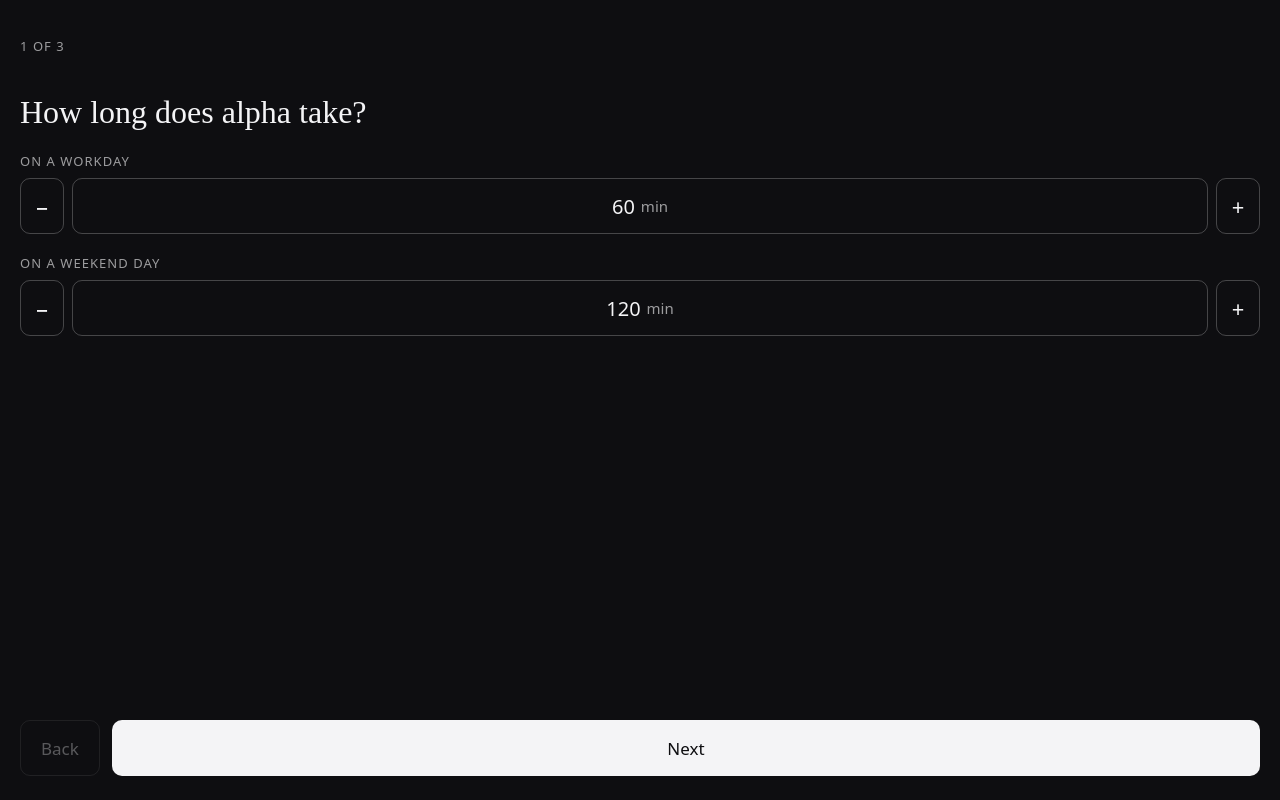
it: S1 screen renderer (§4.2) › renders screens in pack order, one at a time (AC 1)
The width and height of the screenshot is (1280, 800).
Expected: the heading reads "How long does alpha take?", x1=20 y1=94 x2=367 y2=130
Click the button "Next": {"x": 686, "y": 748} x1=112 y1=720 x2=1260 y2=776
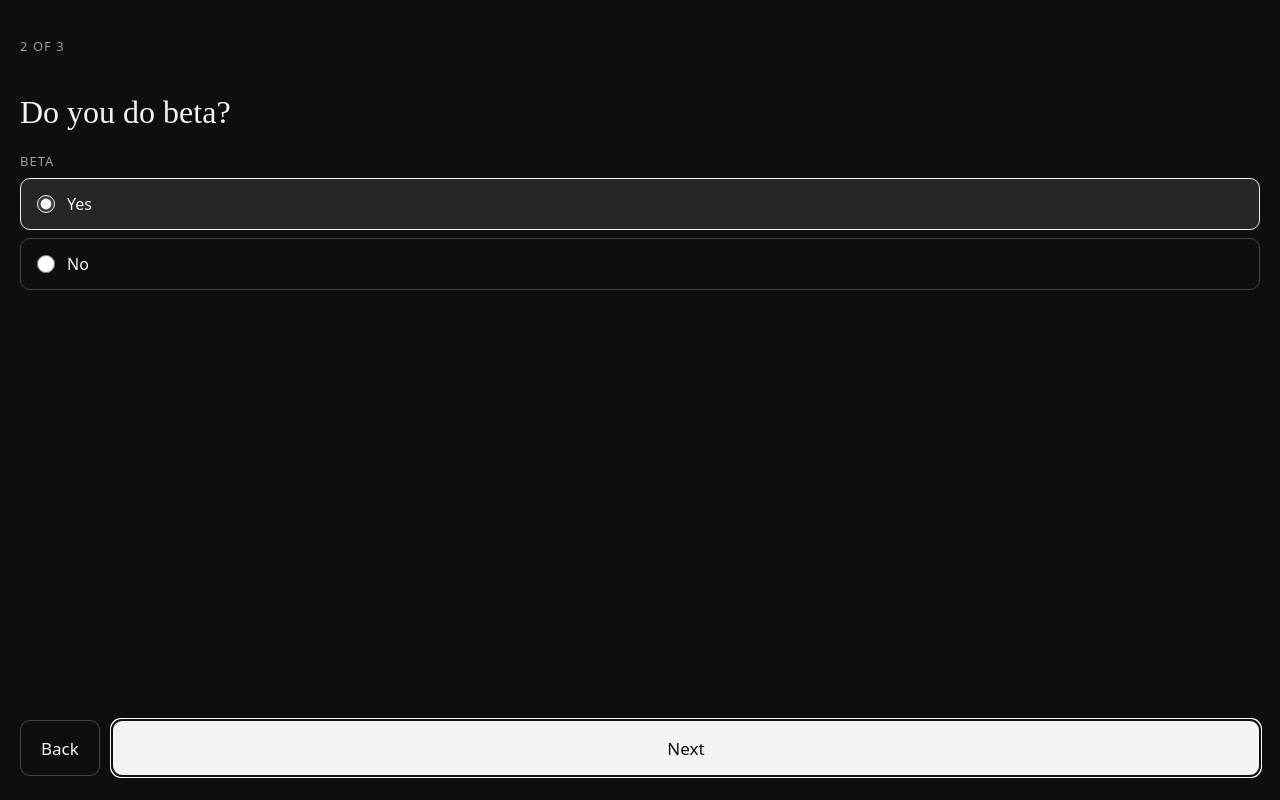
Expected: the heading reads "Do you do beta?", x1=20 y1=94 x2=231 y2=130
Click the button "Next": {"x": 686, "y": 748} x1=112 y1=720 x2=1260 y2=776
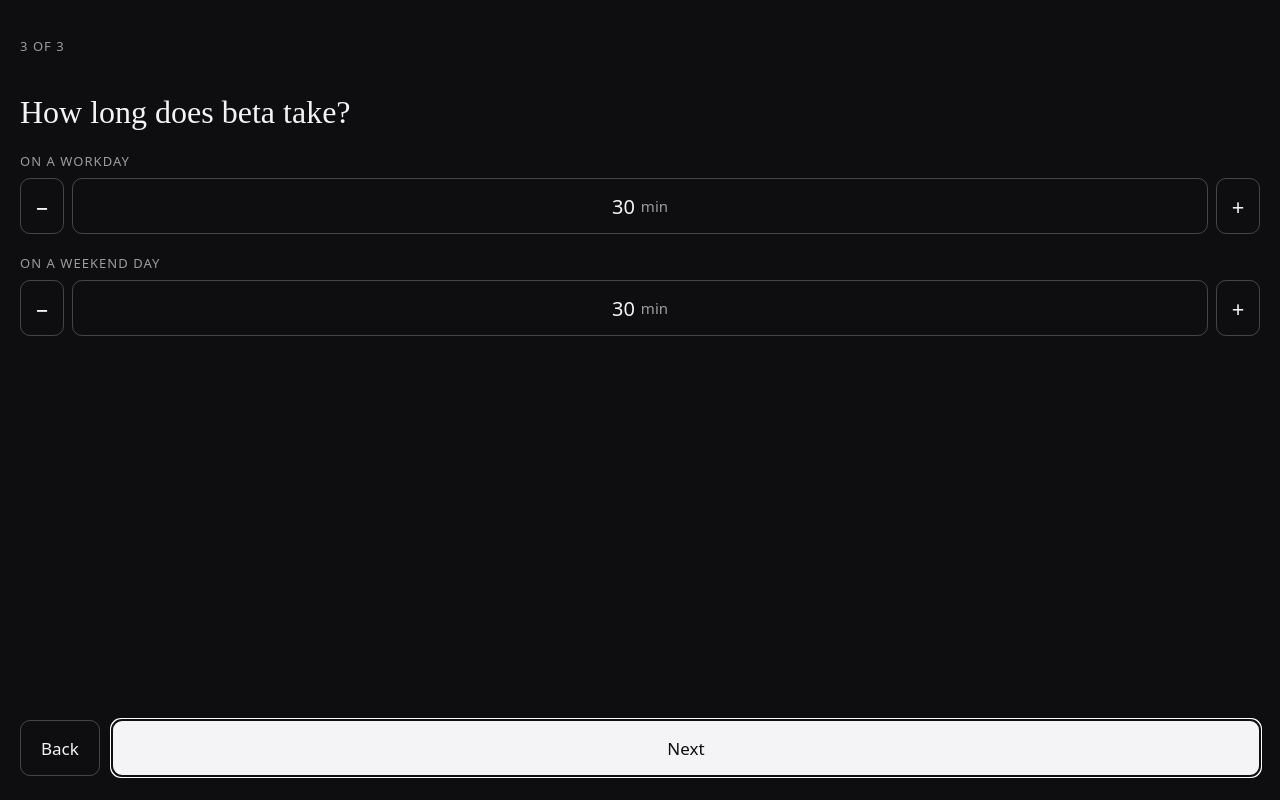
Expected: the heading reads "How long does beta take?", x1=20 y1=94 x2=351 y2=130
